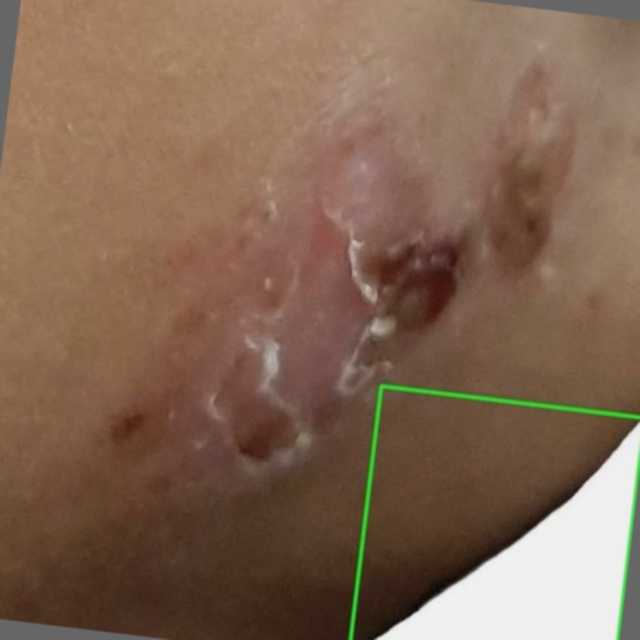Contact Dermatitis: (350, 386, 639, 639)
